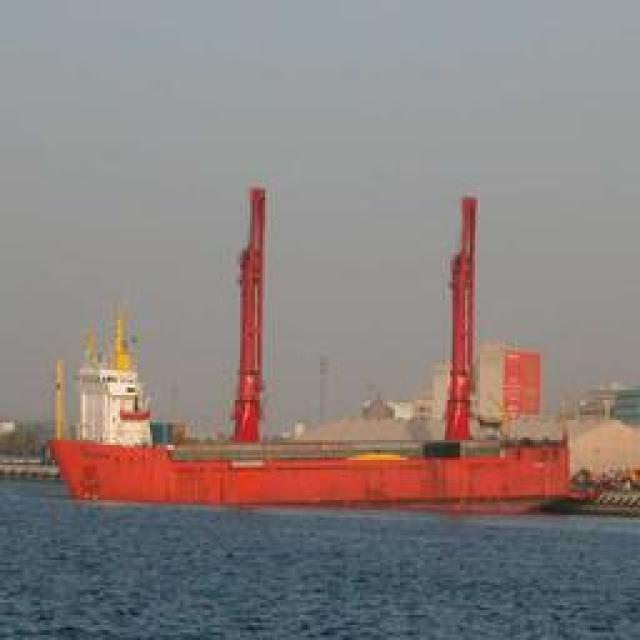CIV_Ship: (51, 432, 629, 510)
